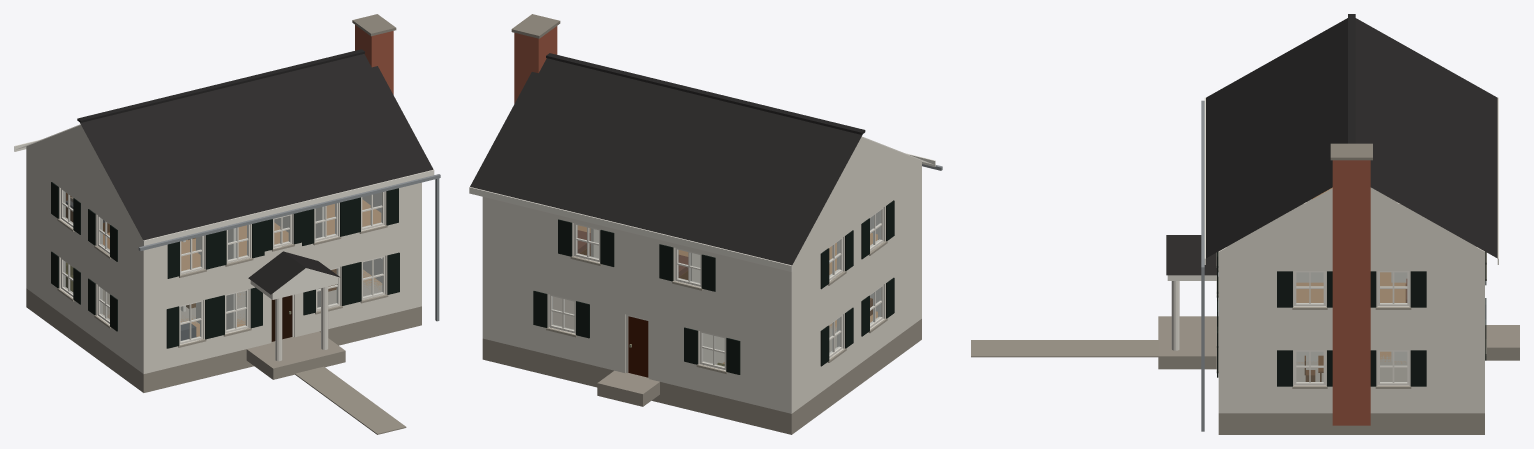
The model's file is colonial.glb.
The picture shows the model from 3 angles, left to right: view 1: azimuth 30°, elevation 25°; view 2: azimuth 150°, elevation 25°; view 3: azimuth 270°, elevation 25°; orthographic projection. The views are drawn at different scales.
Parts seen in each view (by area): view 1: LOD0, LEAF0, FURN; view 2: LOD0, LEAF1, FURN; view 3: LOD0.
Part boxes in pixels (left/top/right/bottom): LOD0: left=14, top=14, right=440, bottom=434; LEAF0: left=271, top=295, right=292, bottom=341; FURN: left=66, top=193, right=336, bottom=340; LOD0: left=469, top=14, right=942, bottom=434; LEAF1: left=628, top=316, right=648, bottom=377; FURN: left=577, top=230, right=872, bottom=366; LOD0: left=971, top=14, right=1519, bottom=434.
Size of what is drawn, in the model's own units: 12.93 by 10.1 by 17.3.
